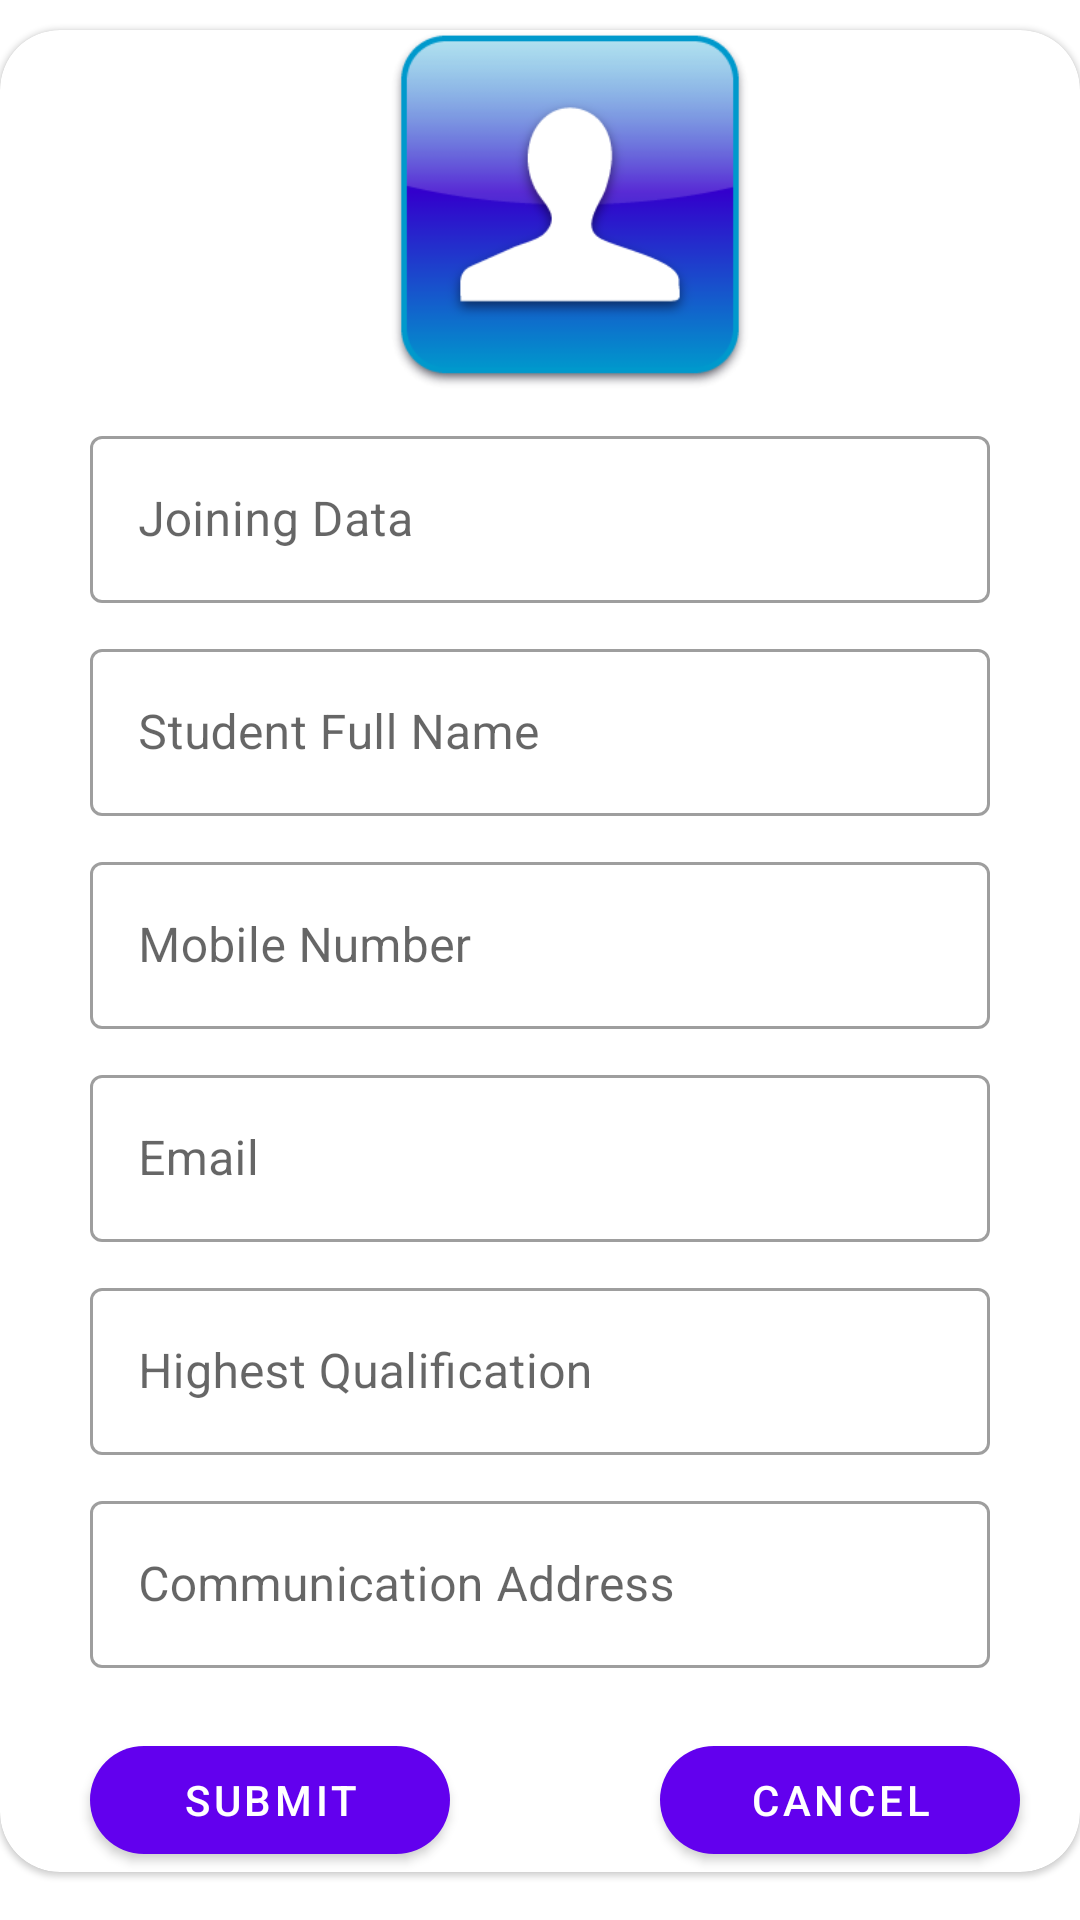

Icons on this 1080px×1920px Android screen, each with its box as (x1,y1,x2,y2):
profile: (398,35,742,382)
